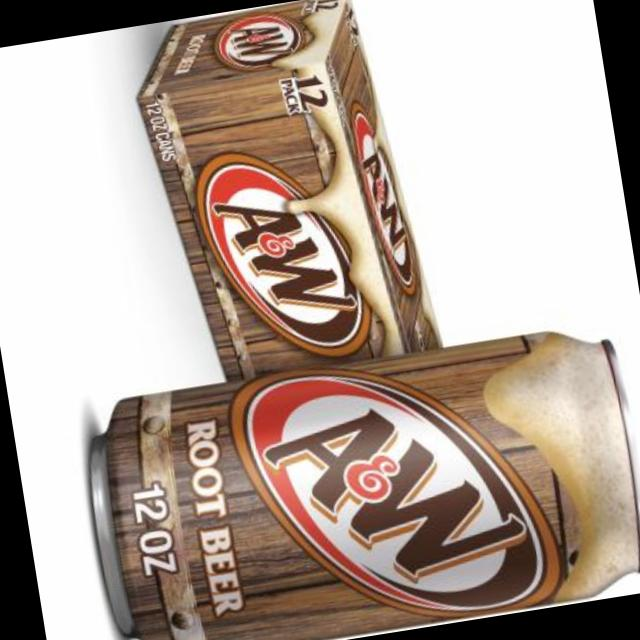metal: (93, 330, 640, 640)
